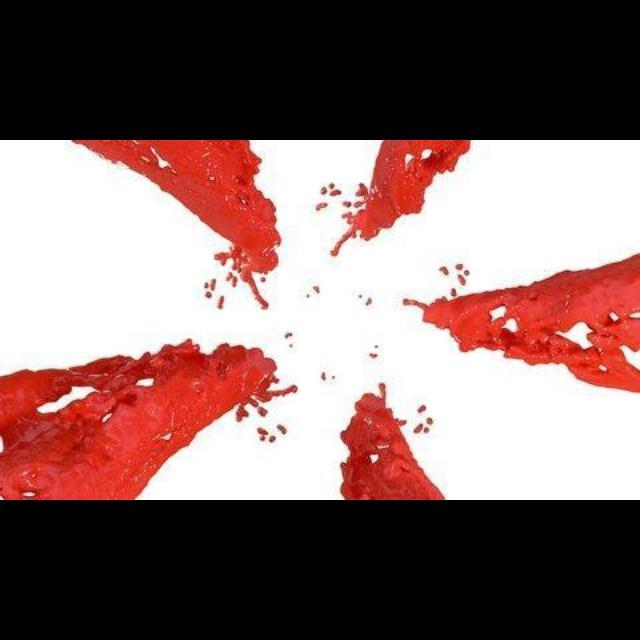blood: (0, 340, 297, 499), (76, 140, 281, 309), (404, 255, 640, 391), (332, 141, 471, 255), (341, 384, 445, 500), (440, 263, 472, 297), (415, 417, 435, 435), (321, 183, 343, 195), (204, 279, 215, 298), (227, 272, 237, 286), (258, 428, 268, 441), (369, 345, 379, 358), (217, 295, 225, 309), (316, 201, 328, 210), (259, 407, 268, 417), (419, 405, 428, 414), (277, 426, 287, 434), (312, 285, 320, 293), (321, 372, 327, 381), (268, 436, 275, 442), (367, 297, 371, 305)
